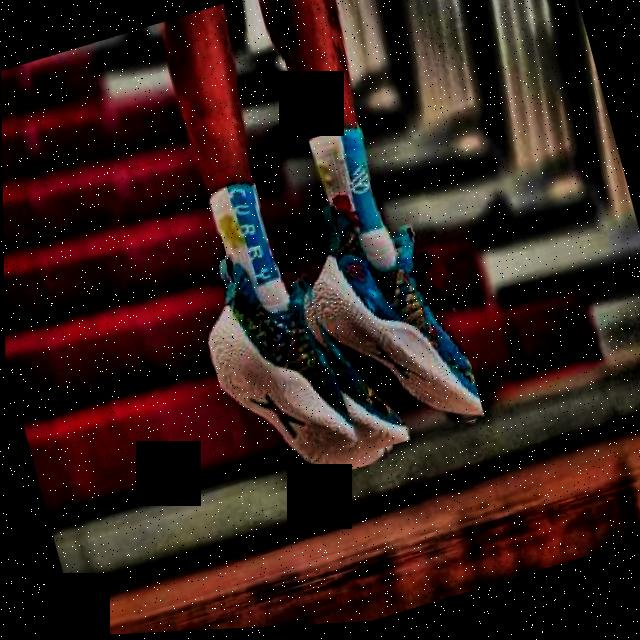shoe: (186, 223, 397, 505), (279, 178, 484, 465)
